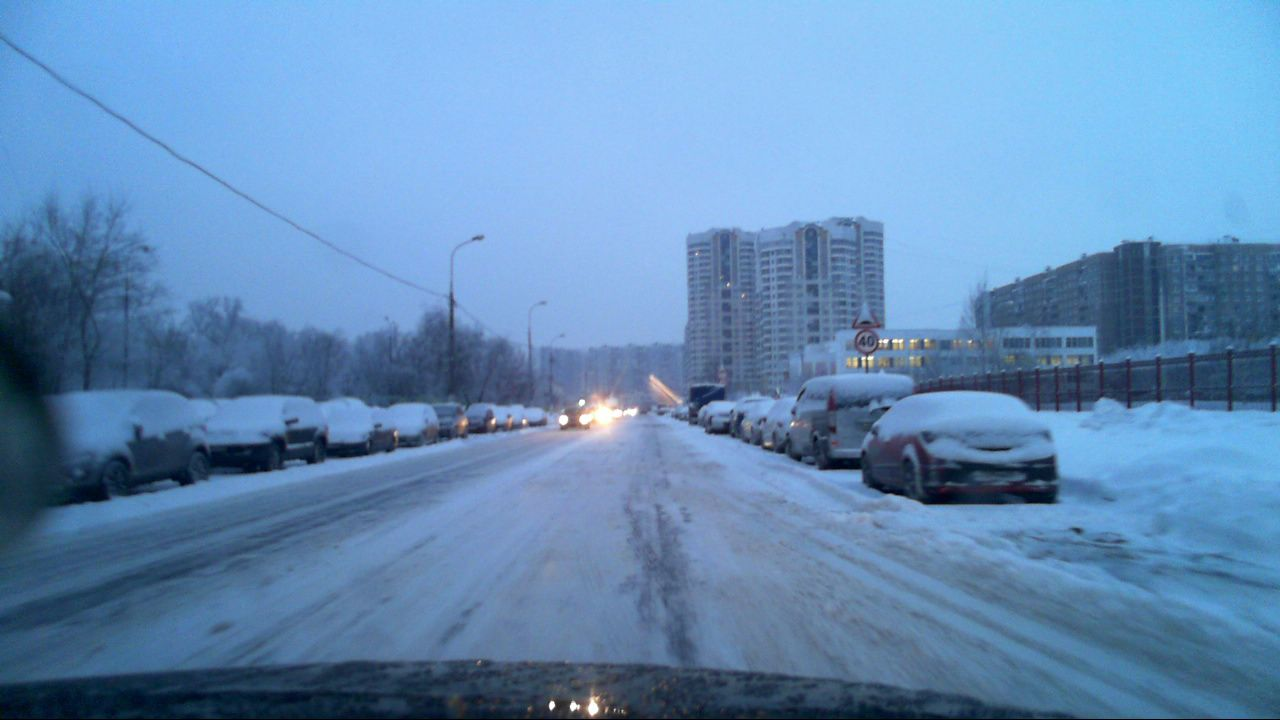speed_warning_40: (856, 329, 881, 357)
